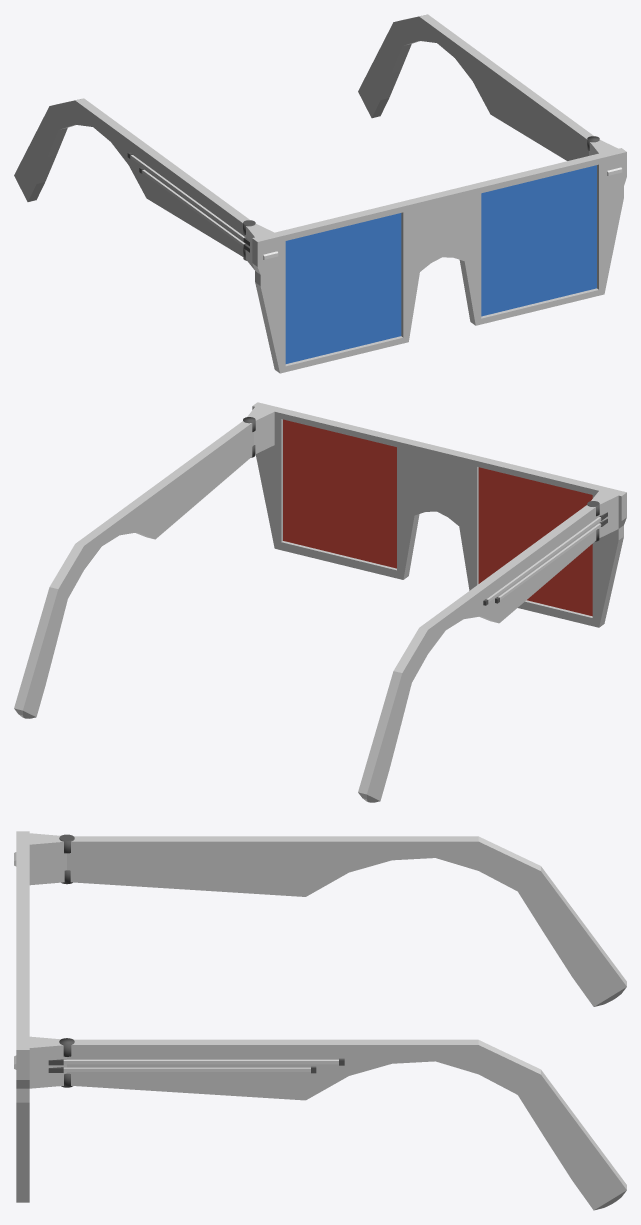
The model's file is glasses_LP.fbx.
The picture shows the model from 3 angles, top to bottom: view 1: azimuth 30°, elevation 25°; view 2: azimuth 150°, elevation 25°; view 3: azimuth 270°, elevation 25°; orthographic projection. The views are drawn at different scales.
Parts seen in each view (by area): view 1: Glasses LP; view 2: Glasses LP; view 3: Glasses LP.
Part boxes in pixels (x1,y1,x2,y2): Glasses LP: [14, 14, 626, 373]; Glasses LP: [14, 402, 626, 802]; Glasses LP: [14, 831, 626, 1210].
Bounding box in the file's own units: 4.63 × 1.65 × 5.49.
